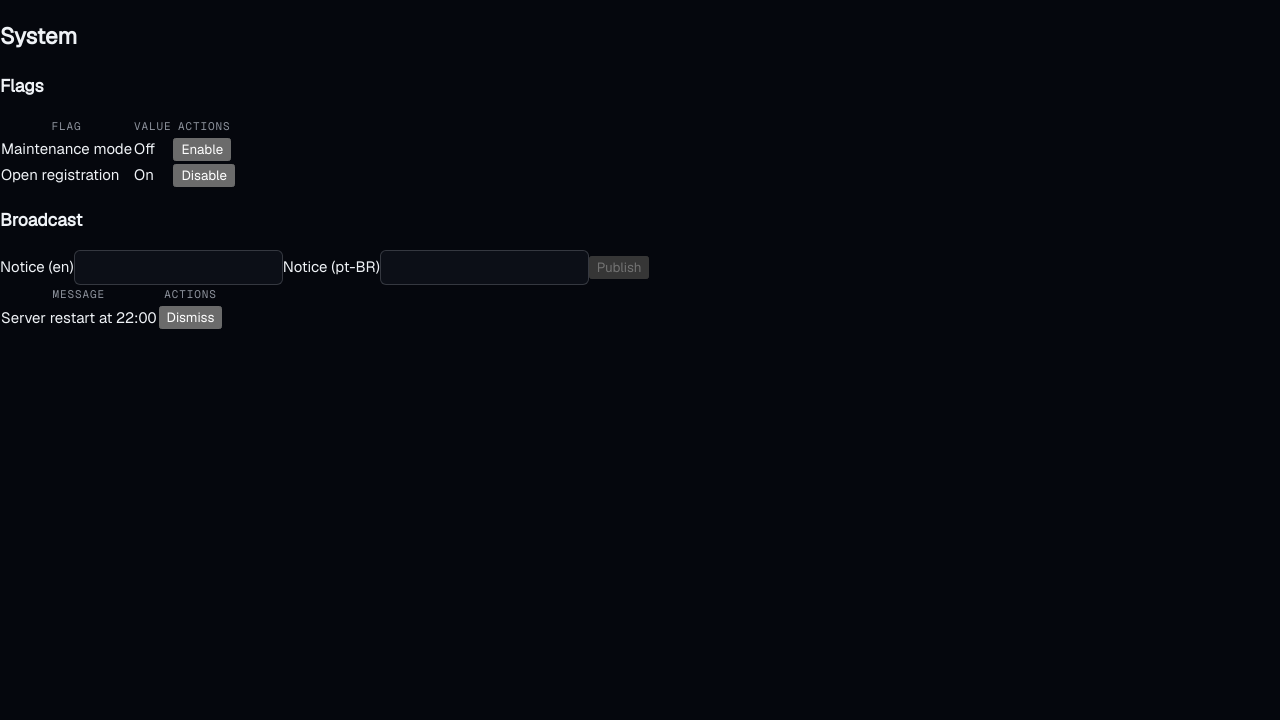
Test: system screen (S11.5 screen E) › says why a flag flip, a notice or a dismissal failed, instead of failing silently
Type "x" into the field labelled "Notice (en)" at (178,268), box x1=74 y1=250 x2=283 y2=285
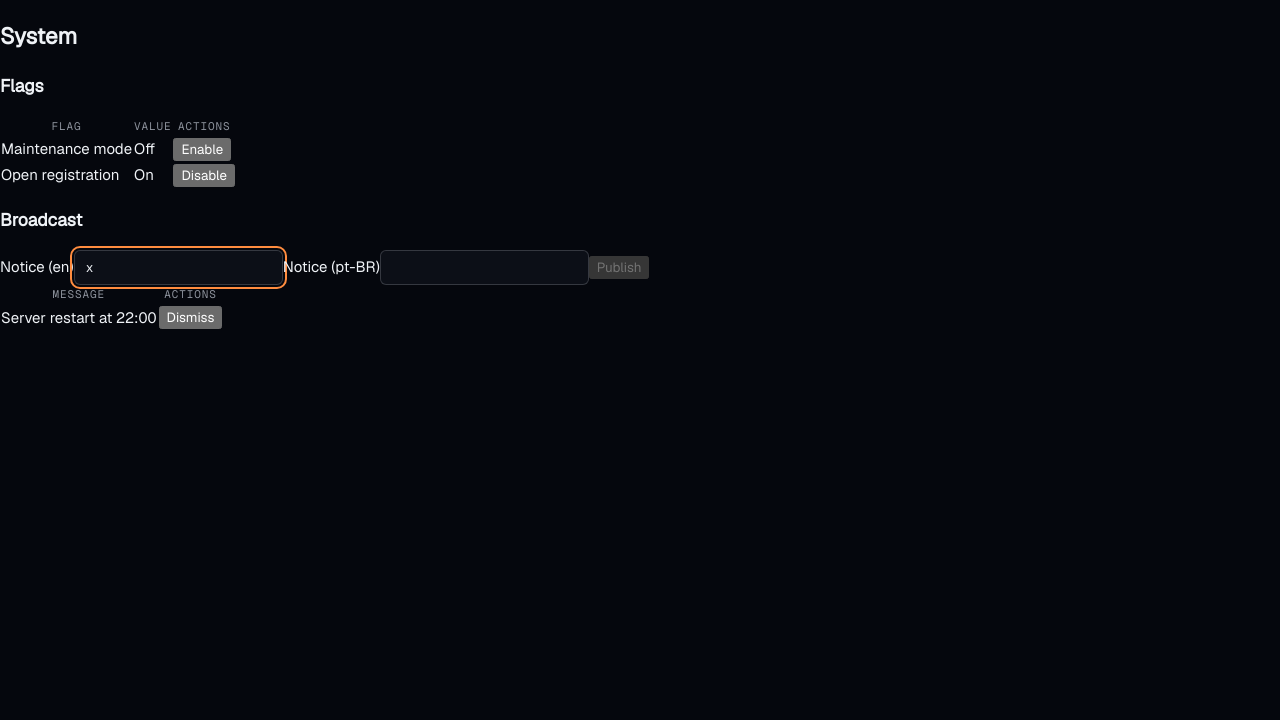
Type "y" into the field labelled "Notice (pt-BR)" at (484,268), box x1=380 y1=250 x2=589 y2=285
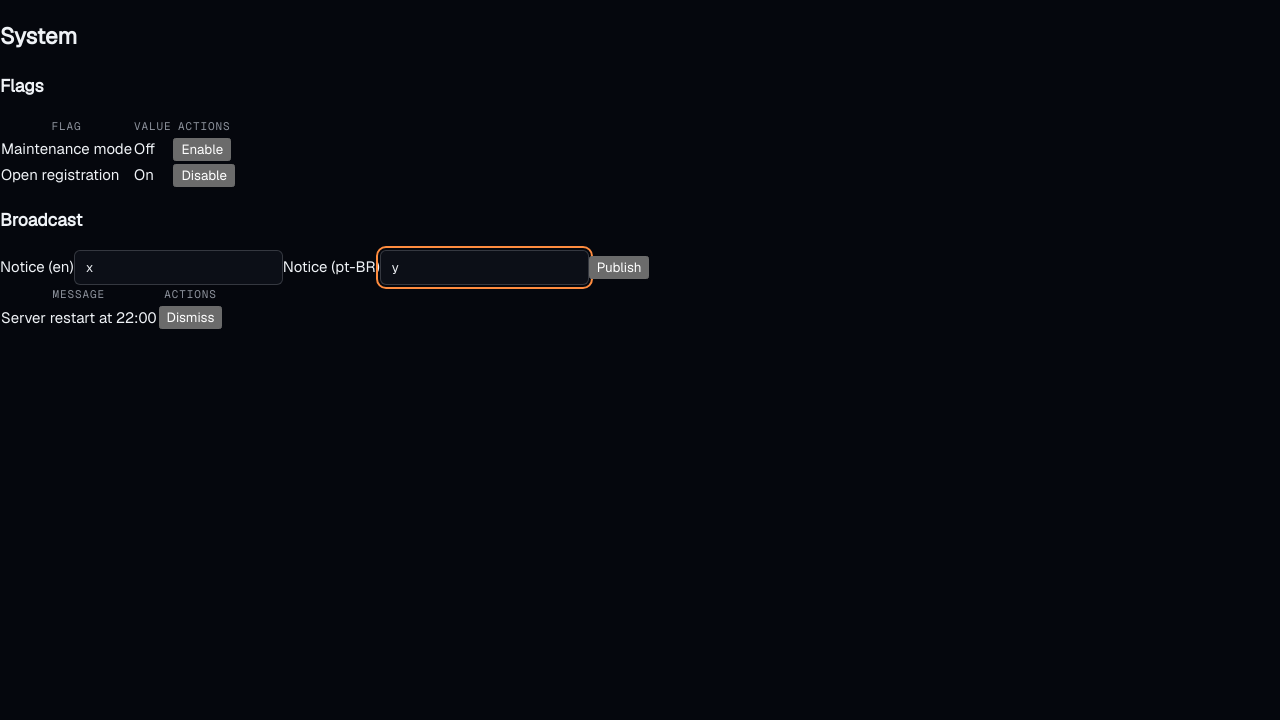
Click the button "Publish" at (619,268), box x1=589 y1=256 x2=650 y2=279
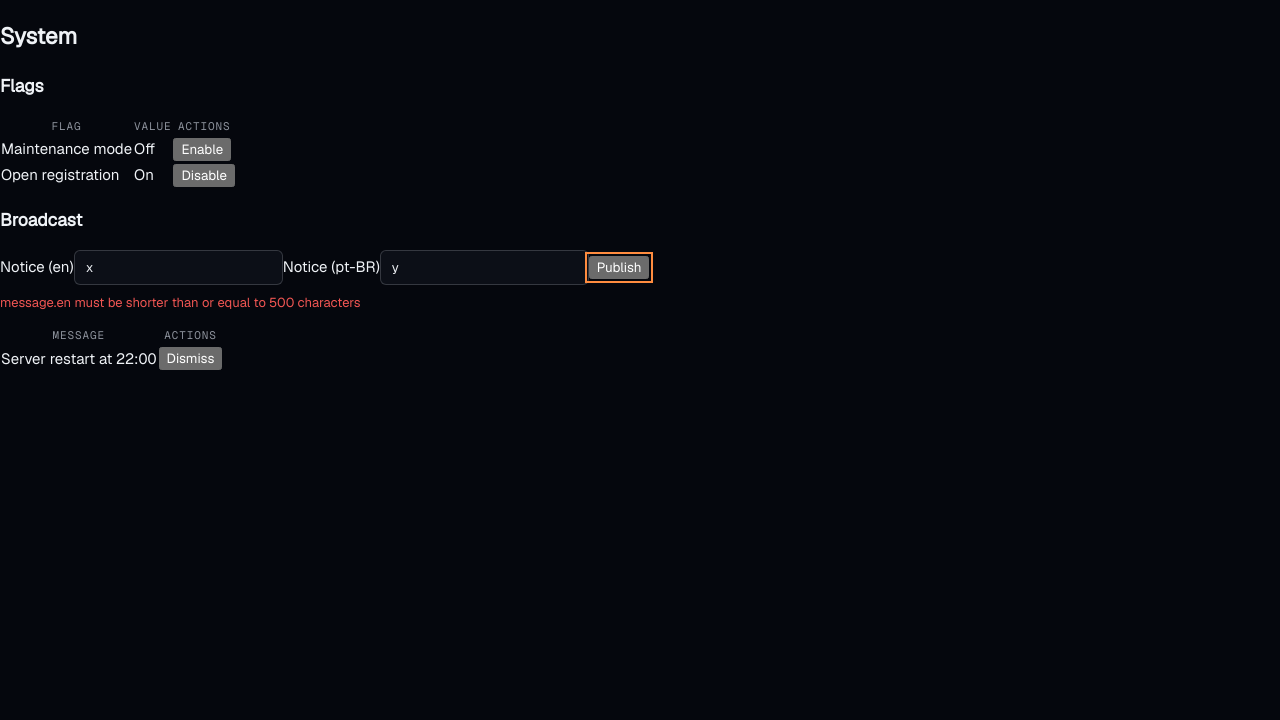
Expected: the text "message.en must be shorter than or equal to 500 characters" is shown, x1=0 y1=294 x2=360 y2=311
Click the button named "Toggle Maintenance mode" at (202,150), box x1=174 y1=138 x2=231 y2=161
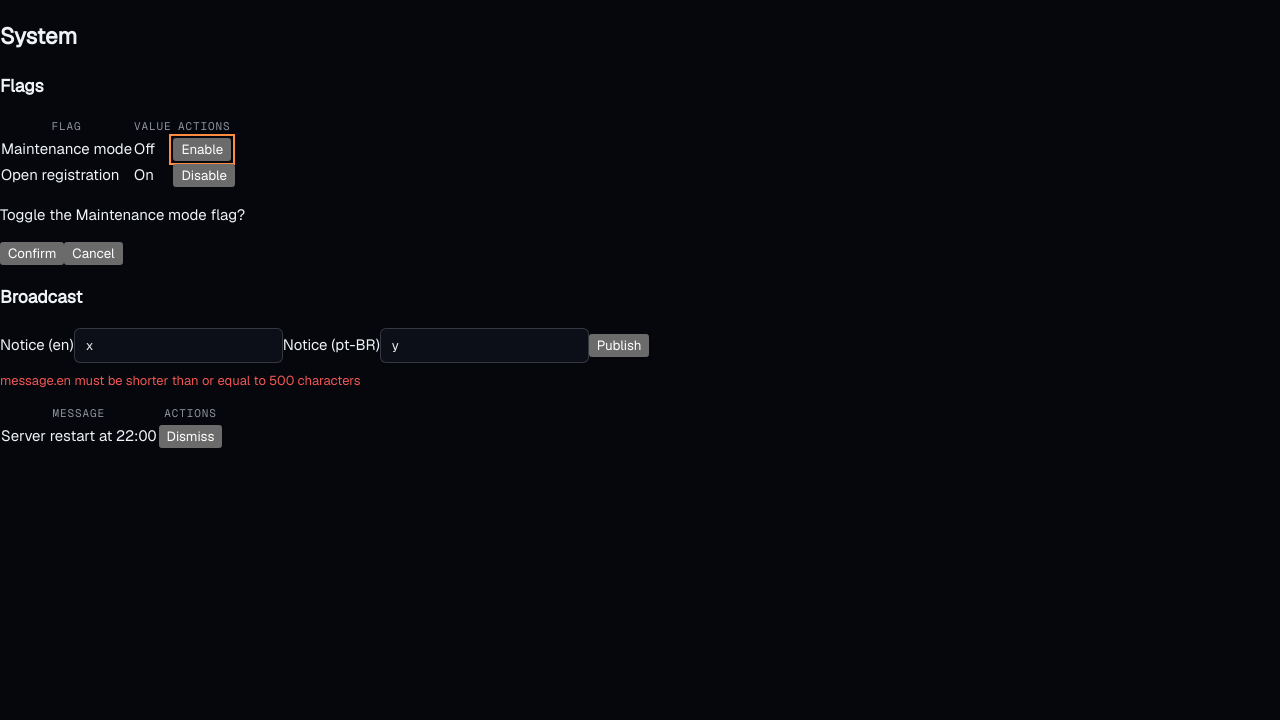
Click the button "Confirm" at (32,254), box x1=0 y1=242 x2=64 y2=265
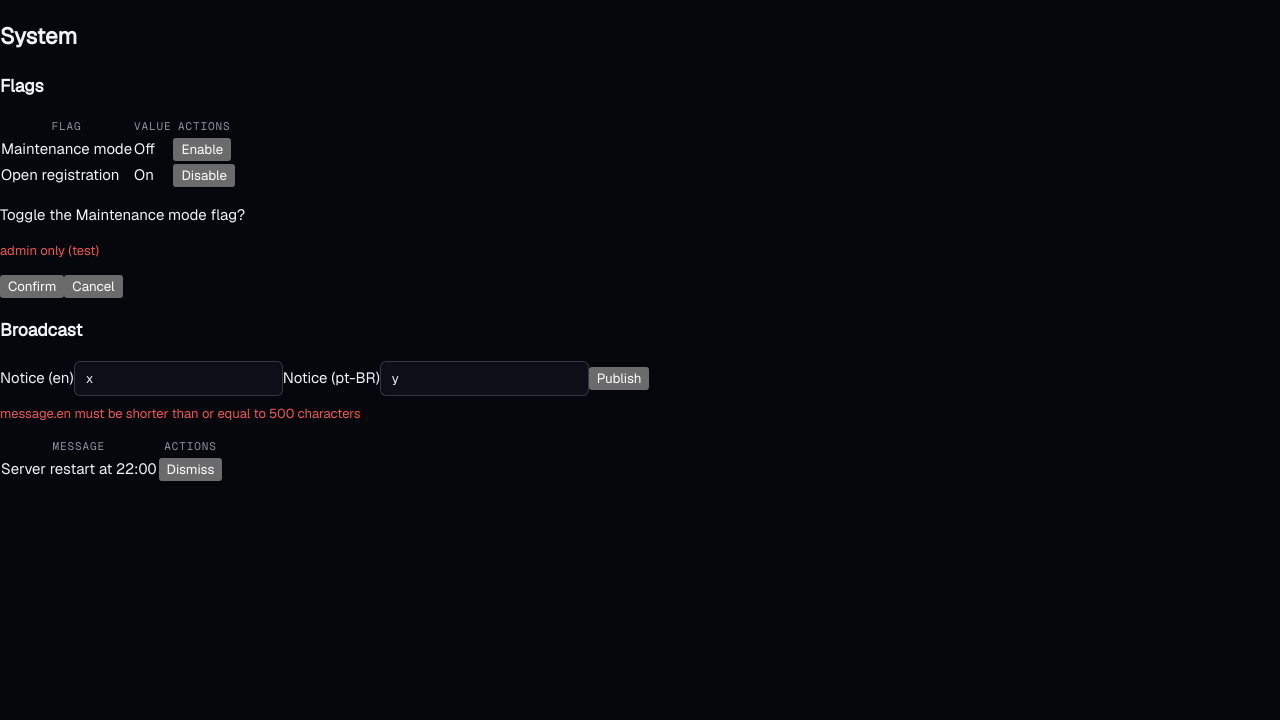
Expected: the text "admin only (test)" is shown, x1=0 y1=242 x2=99 y2=259
